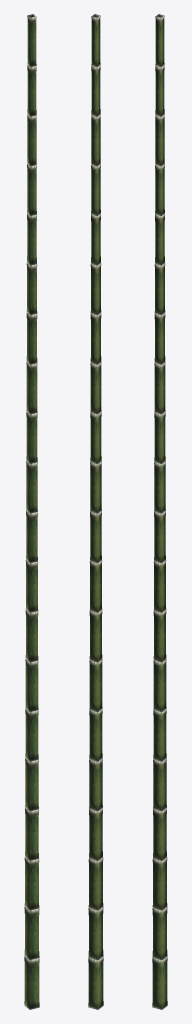
The model's file is bamboo_20.fbx.
3 views of the same model, side by side, from view 1: azimuth 30°, elevation 25°; view 2: azimuth 150°, elevation 25°; view 3: azimuth 330°, elevation 25° (orthographic).
Visible parts, largest first — view 1: bamboo_20; view 2: bamboo_20; view 3: bamboo_20.
Part boxes in pixels (<box>): bamboo_20: <box>24,14,39,1009</box>; bamboo_20: <box>88,14,103,1009</box>; bamboo_20: <box>152,14,167,1009</box>.
Size of the model in its own units: 41.83 by 4000 by 41.83.
